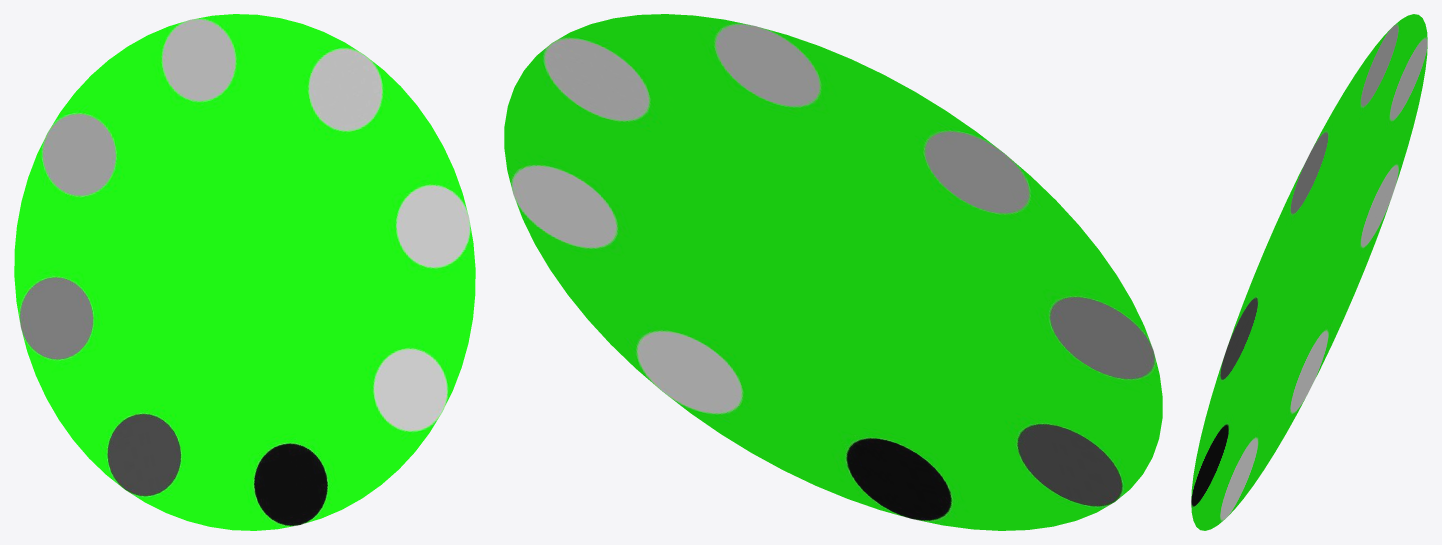
The model's file is charlottehellerau.glb.
3 renders of one model, left to right at view 1: azimuth 30°, elevation 25°; view 2: azimuth 150°, elevation 25°; view 3: azimuth 270°, elevation 25°, orthographic. The views are drawn at different scales.
Parts seen in each view (by area): view 1: videotarget; view 2: videotarget; view 3: videotarget.
Boxes of the visible parts, x1=… form: videotarget: x1=14, y1=14, x2=475, y2=530; videotarget: x1=504, y1=14, x2=1162, y2=530; videotarget: x1=1191, y1=14, x2=1427, y2=530.
Bounding box in the file's own units: 2 × 1.81 × 0.8452.
1 material, 1 textured.
